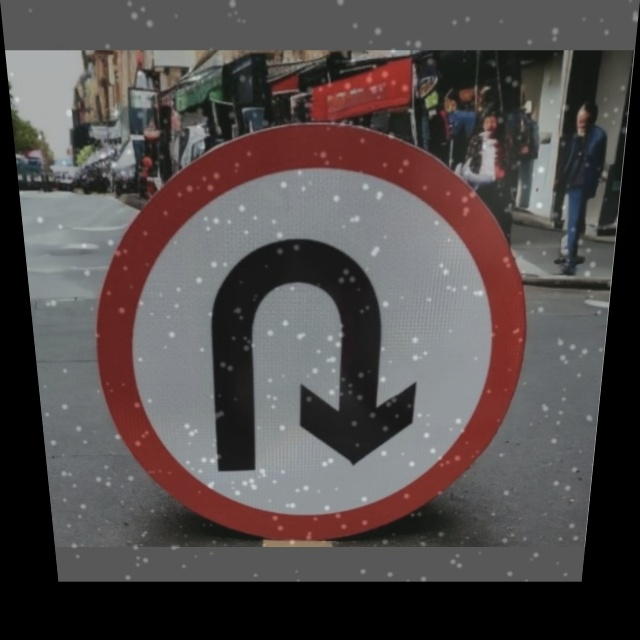U_Turn_Ahead: (136, 179, 508, 509)
